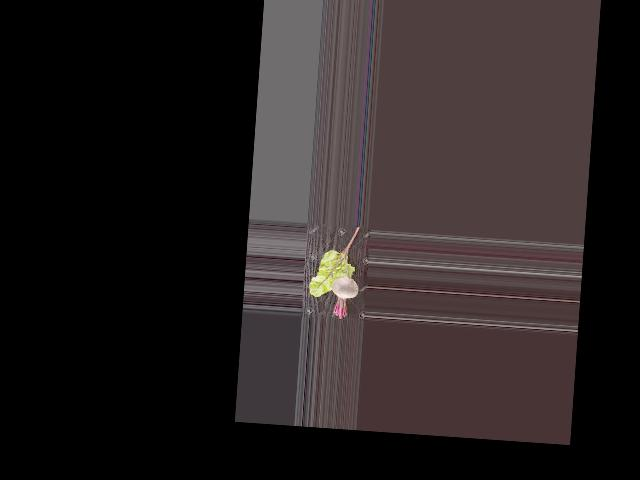beet: (330, 251, 361, 320)
